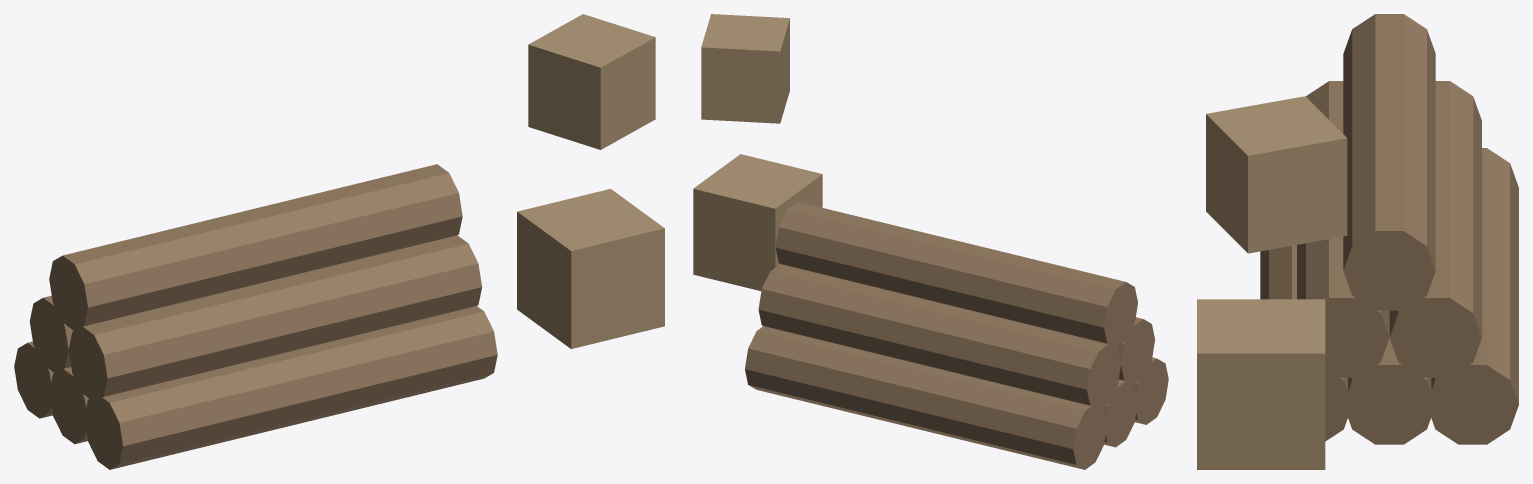
File: crates_woodpile.glb
The picture shows the model from 3 angles, left to right: view 1: azimuth 30°, elevation 25°; view 2: azimuth 150°, elevation 25°; view 3: azimuth 270°, elevation 25°; orthographic projection. The views are drawn at different scales.
Visible parts, largest first — view 1: Log_5, Log_4, Log_2, Crate_Bottom, Crate_Top, Log_3, Log_1, Log_0; view 2: Log_5, Log_3, Log_1, Crate_Bottom, Crate_Top, Log_4, Log_0, Log_2; view 3: Log_5, Crate_Bottom, Crate_Top, Log_3, Log_1, Log_4, Log_0, Log_2.
Boxes of the visible parts, x1,y1,x2,y2 form: Log_5: (49, 164, 462, 330); Log_4: (68, 235, 481, 401); Log_2: (84, 306, 497, 469); Crate_Bottom: (517, 188, 664, 348); Crate_Top: (528, 14, 655, 149); Log_3: (29, 295, 73, 372); Log_1: (14, 341, 54, 418); Log_0: (50, 367, 89, 444); Log_5: (775, 202, 1137, 347); Log_3: (758, 264, 1120, 410); Log_1: (745, 326, 1105, 469); Crate_Bottom: (693, 154, 822, 290); Crate_Top: (701, 14, 789, 123); Log_4: (1116, 317, 1154, 384); Log_0: (1103, 380, 1137, 447); Log_2: (1134, 357, 1168, 424); Log_5: (1343, 14, 1435, 310); Crate_Bottom: (1197, 299, 1325, 469); Crate_Top: (1206, 96, 1347, 253); Log_3: (1389, 81, 1481, 377); Log_1: (1427, 148, 1518, 444); Log_4: (1297, 81, 1389, 377); Log_0: (1343, 338, 1435, 444); Log_2: (1260, 245, 1352, 441).
Size of the model in its own units: 1.41 by 0.8106 by 0.627.
